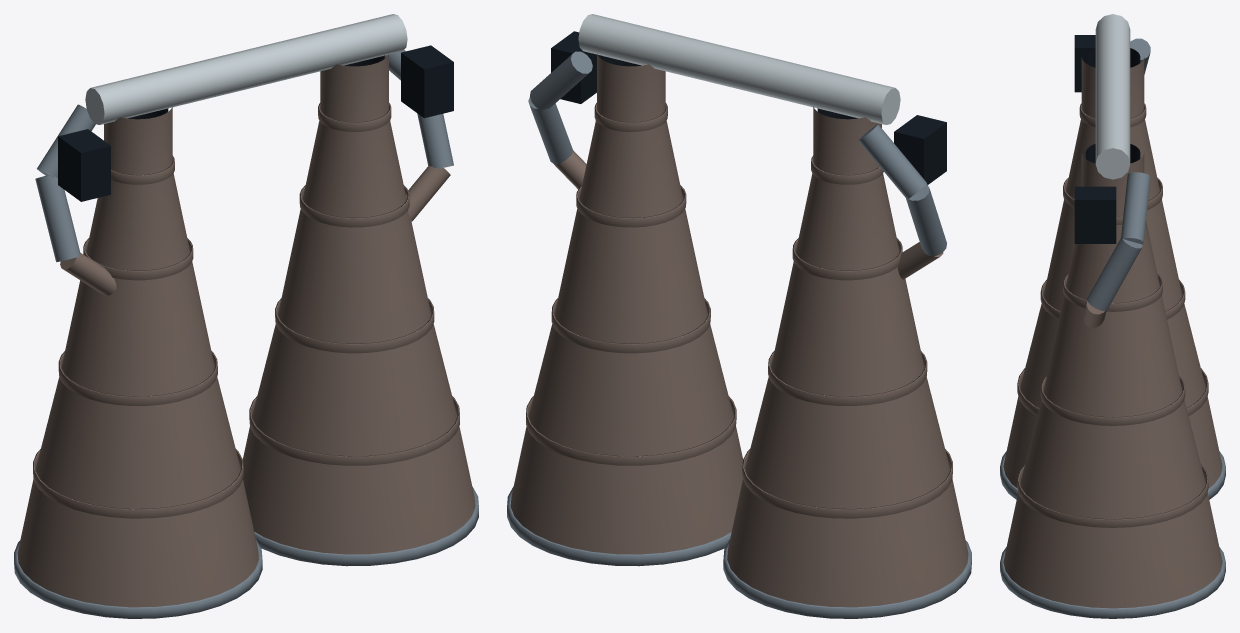
The model's file is lr87_engine.glb.
3 views of the same model, side by side, from view 1: azimuth 30°, elevation 25°; view 2: azimuth 150°, elevation 25°; view 3: azimuth 270°, elevation 25° (orthographic). The views are drawn at different scales.
Parts seen in each view (by area): view 1: titan_stage_1lr87_02bellmesh_Heat-stained_alloy, titan_stage_1lr87_01bellmesh_Heat-stained_alloy, lr87_engine.mesh_Satin_aluminum, lr87_engine.simplified_feed_hardware.mesh_Shadowed_interior, lr87_engine.simplified_feed_hardware.mesh_Machined_steel, titan_stage_1lr87_01bellmesh_Machined_steel, titan_stage_1lr87_02bellmesh_Machined_steel, lr87_engine.simplified_feed_hardware.mesh_Heat-stained_alloy; view 2: titan_stage_1lr87_02bellmesh_Heat-stained_alloy, titan_stage_1lr87_01bellmesh_Heat-stained_alloy, lr87_engine.mesh_Satin_aluminum, lr87_engine.simplified_feed_hardware.mesh_Machined_steel, lr87_engine.simplified_feed_hardware.mesh_Shadowed_interior, titan_stage_1lr87_01bellmesh_Machined_steel, titan_stage_1lr87_02bellmesh_Machined_steel, lr87_engine.simplified_feed_hardware.mesh_Heat-stained_alloy; view 3: titan_stage_1lr87_02bellmesh_Heat-stained_alloy, titan_stage_1lr87_01bellmesh_Heat-stained_alloy, lr87_engine.mesh_Satin_aluminum, lr87_engine.simplified_feed_hardware.mesh_Machined_steel, lr87_engine.simplified_feed_hardware.mesh_Shadowed_interior, titan_stage_1lr87_02bellmesh_Machined_steel, titan_stage_1lr87_01bellmesh_Machined_steel, lr87_engine.simplified_feed_hardware.mesh_Heat-stained_alloy, titan_stage_1lr87_02bellmesh_Shadowed_interior, titan_stage_1lr87_01bellmesh_Shadowed_interior.
Part boxes in pixels (left/top/right/bottom): titan_stage_1lr87_02bellmesh_Heat-stained_alloy: left=243, top=54, right=475, bottom=554; titan_stage_1lr87_01bellmesh_Heat-stained_alloy: left=17, top=106, right=258, bottom=607; lr87_engine.mesh_Satin_aluminum: left=85, top=14, right=407, bottom=124; lr87_engine.simplified_feed_hardware.mesh_Shadowed_interior: left=58, top=45, right=453, bottom=201; lr87_engine.simplified_feed_hardware.mesh_Machined_steel: left=35, top=50, right=453, bottom=262; titan_stage_1lr87_01bellmesh_Machined_steel: left=14, top=539, right=262, bottom=618; titan_stage_1lr87_02bellmesh_Machined_steel: left=254, top=486, right=478, bottom=566; lr87_engine.simplified_feed_hardware.mesh_Heat-stained_alloy: left=60, top=166, right=450, bottom=296; titan_stage_1lr87_02bellmesh_Heat-stained_alloy: left=510, top=54, right=742, bottom=554; titan_stage_1lr87_01bellmesh_Heat-stained_alloy: left=727, top=106, right=968, bottom=607; lr87_engine.mesh_Satin_aluminum: left=578, top=14, right=900, bottom=124; lr87_engine.simplified_feed_hardware.mesh_Machined_steel: left=528, top=51, right=946, bottom=255; lr87_engine.simplified_feed_hardware.mesh_Shadowed_interior: left=551, top=31, right=946, bottom=184; titan_stage_1lr87_01bellmesh_Machined_steel: left=723, top=539, right=971, bottom=618; titan_stage_1lr87_02bellmesh_Machined_steel: left=507, top=486, right=731, bottom=566; lr87_engine.simplified_feed_hardware.mesh_Heat-stained_alloy: left=554, top=150, right=943, bottom=279; titan_stage_1lr87_02bellmesh_Heat-stained_alloy: left=1003, top=153, right=1222, bottom=608; titan_stage_1lr87_01bellmesh_Heat-stained_alloy: left=1003, top=57, right=1222, bottom=487; lr87_engine.mesh_Satin_aluminum: left=1095, top=14, right=1130, bottom=179; lr87_engine.simplified_feed_hardware.mesh_Machined_steel: left=1087, top=38, right=1150, bottom=310; lr87_engine.simplified_feed_hardware.mesh_Shadowed_interior: left=1074, top=35, right=1116, bottom=243; titan_stage_1lr87_02bellmesh_Machined_steel: left=1000, top=547, right=1225, bottom=618; titan_stage_1lr87_01bellmesh_Machined_steel: left=1000, top=451, right=1225, bottom=499; lr87_engine.simplified_feed_hardware.mesh_Heat-stained_alloy: left=1083, top=301, right=1106, bottom=327; titan_stage_1lr87_02bellmesh_Shadowed_interior: left=1085, top=144, right=1140, bottom=163; titan_stage_1lr87_01bellmesh_Shadowed_interior: left=1085, top=48, right=1140, bottom=67.
Bounding box in the file's own units: 2.6 × 2.8 × 1.3.
